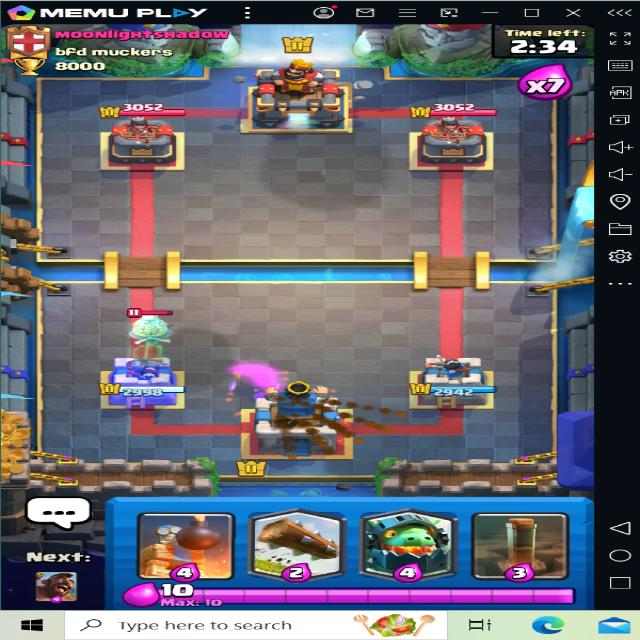monk: (110, 303, 183, 346)
monk-ability: (116, 304, 210, 352)
